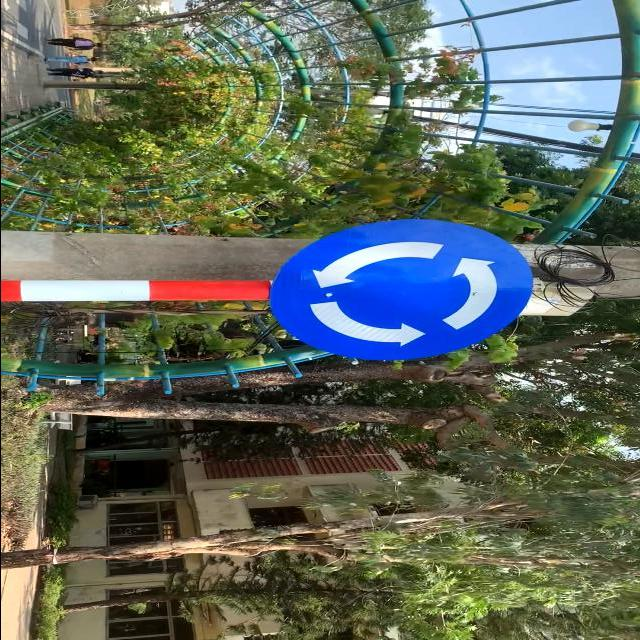R-303: (266, 216, 532, 362)
